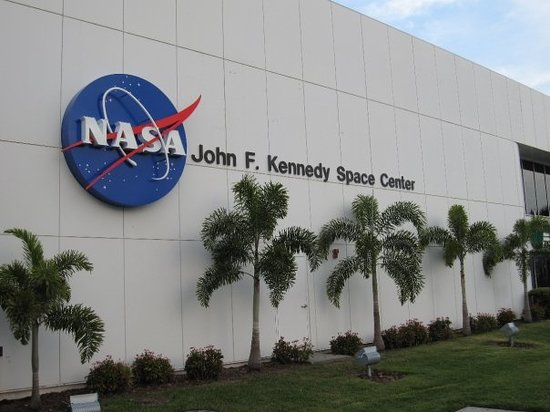NASA: (55, 63, 205, 209)
